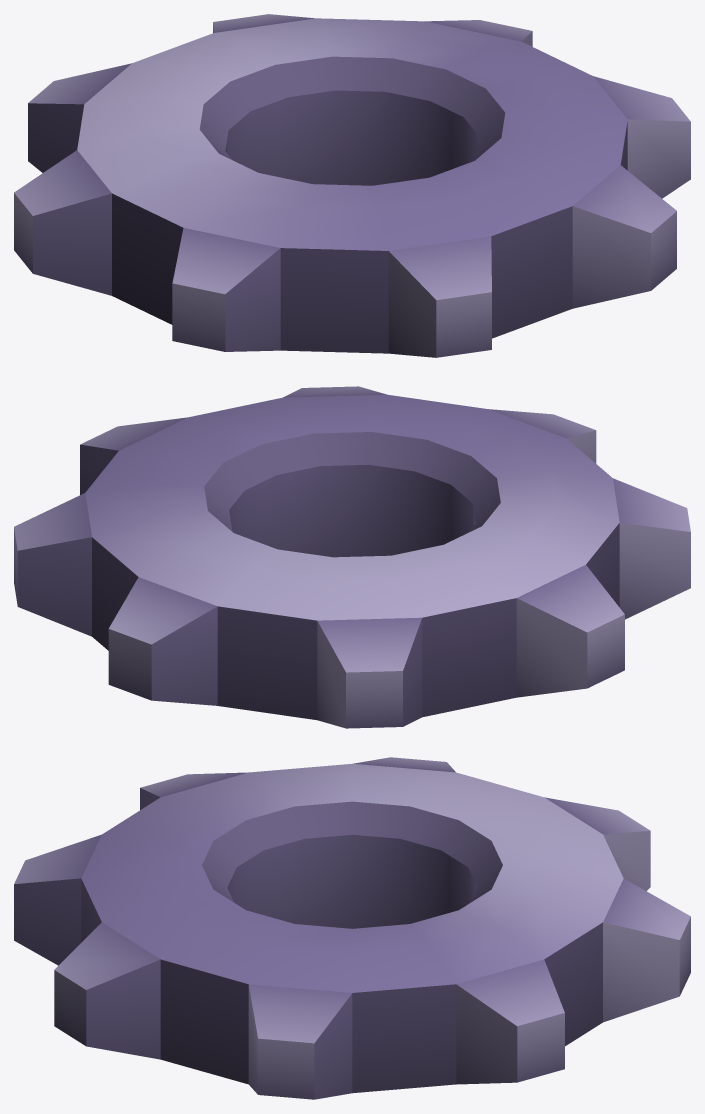
File: SM_Rotation_Platform_01_02.fbx
3 renders of one model, top to bottom at view 1: azimuth 30°, elevation 25°; view 2: azimuth 150°, elevation 25°; view 3: azimuth 270°, elevation 25°, orthographic. The views are drawn at different scales.
Visible parts, largest first — view 1: SM_Rotation_Platform_01_02; view 2: SM_Rotation_Platform_01_02; view 3: SM_Rotation_Platform_01_02.
Boxes of the visible parts, <box> form: SM_Rotation_Platform_01_02: <box>14,14,690,357</box>; SM_Rotation_Platform_01_02: <box>14,386,690,728</box>; SM_Rotation_Platform_01_02: <box>14,757,690,1099</box>.
Bounding box in the file's own units: 2.34 × 0.4833 × 2.34.
